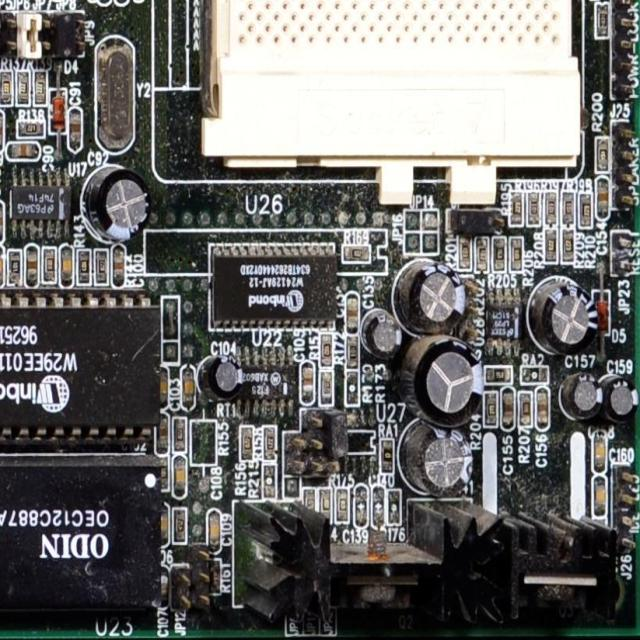IC: (0, 277, 162, 443), (0, 458, 162, 619), (208, 248, 329, 320), (8, 169, 74, 237)
capacitor: (591, 430, 609, 474), (298, 360, 315, 406), (591, 476, 608, 520), (499, 388, 516, 431), (370, 484, 385, 530), (206, 508, 222, 550), (171, 456, 188, 495), (154, 505, 169, 547), (354, 482, 368, 526), (68, 109, 82, 152), (345, 295, 360, 334), (7, 143, 41, 160), (60, 245, 73, 288), (537, 390, 551, 428), (181, 369, 194, 408), (156, 412, 168, 454), (26, 245, 38, 286), (597, 176, 608, 218), (113, 248, 123, 288), (159, 369, 167, 406), (160, 568, 168, 605), (0, 200, 5, 241), (0, 248, 4, 285), (0, 108, 3, 153), (115, 0, 130, 6), (98, 0, 110, 2)
resistor: (318, 368, 336, 407), (577, 192, 595, 229), (344, 368, 360, 407), (386, 489, 402, 528), (482, 392, 499, 428), (33, 70, 48, 108), (7, 249, 22, 286), (518, 390, 532, 428), (342, 246, 371, 264), (560, 189, 574, 225), (77, 248, 90, 286), (16, 68, 30, 103), (14, 123, 46, 138), (596, 5, 610, 39), (544, 192, 558, 226), (262, 426, 276, 460), (239, 426, 253, 460), (335, 490, 349, 524), (318, 488, 331, 524), (508, 192, 522, 225), (519, 367, 549, 382), (490, 238, 504, 270), (262, 465, 276, 497), (527, 191, 539, 227), (510, 238, 522, 274), (96, 250, 108, 286), (485, 366, 513, 381), (174, 416, 186, 451), (43, 248, 55, 280), (322, 332, 333, 366), (346, 338, 358, 368), (597, 140, 608, 172), (561, 231, 572, 262), (460, 238, 470, 272), (0, 72, 12, 99), (548, 232, 558, 264), (475, 238, 485, 269)
